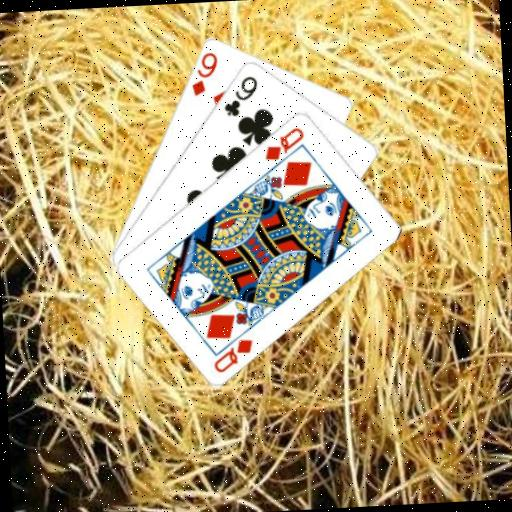9C: (219, 71, 261, 118)
9D: (187, 48, 222, 97)
QD: (209, 335, 256, 375), (260, 124, 307, 163)
